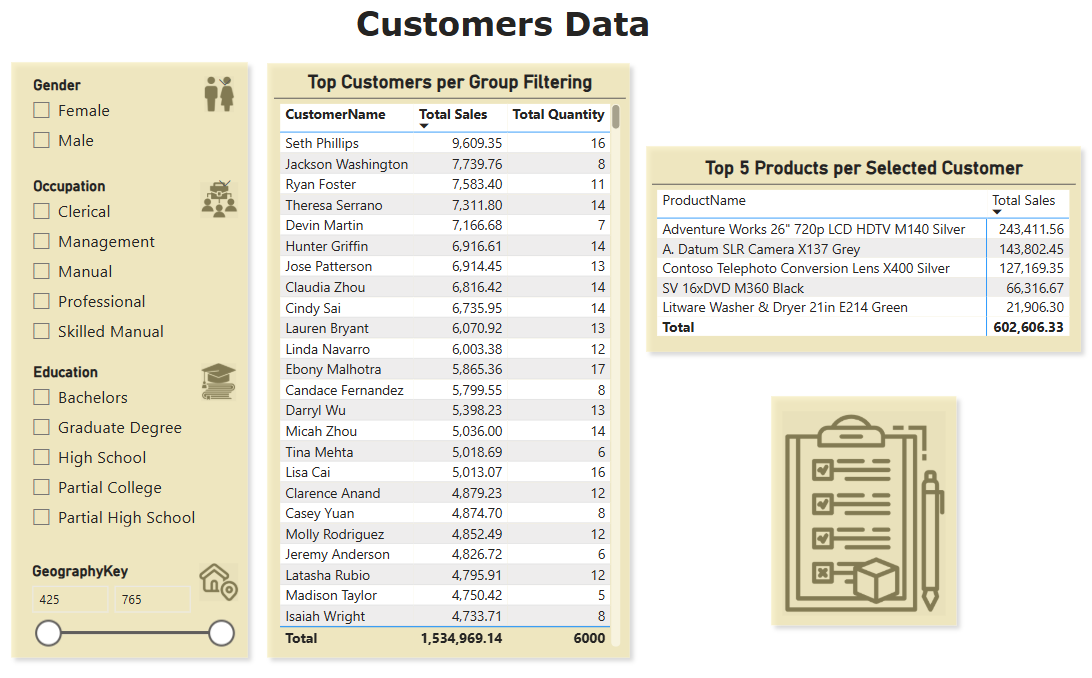

The dashboard page shown, as its layout file describes it:
{"tool":"powerbi","page":{"name":"Customers Data","canvas":[1280,720],"ordinal":2},"visuals":[{"type":"textbox","box":[0,18.5,1280,49.6],"z":0},{"type":"image","box":[339.7,562.9,48.7,46.8],"z":1000},{"type":"image","box":[339.7,369.1,48.7,46.8],"z":2000},{"type":"image","box":[339.7,89.5,48.7,44.8],"z":3000},{"type":"image","box":[339.7,192.7,48.7,44.8],"z":4000},{"type":"shape","box":[152.7,72,248,597.2],"z":5000},{"type":"slicer","fields":{"Values":["customers_table.Gender"]},"box":[170.2,89.5,218.2,86.7],"z":6000},{"type":"slicer","fields":{"Values":["customers_table.Education"]},"box":[170.2,369.1,218.2,185.1],"z":7000},{"type":"slicer","fields":{"Values":["customers_table.Occupation"]},"box":[170.2,187.9,218.2,172.4],"z":8000},{"type":"slicer","fields":{"Values":["customers_table.GeographyKey"]},"box":[169.3,562.2,217.9,150.8],"z":9000},{"type":"shape","box":[401.8,72.9,370.6,596.2],"z":10000},{"type":"tableEx","title":"Top Customers per Group Filtering","fields":{"Values":["customers_table.CustomerName","sales_table.Total Sales","sales_table.Total Quantity"]},"box":[417.3,89.5,342.4,564.1],"z":11000},{"type":"shape","box":[770.4,153.7,440.6,217.9],"z":12000},{"type":"pivotTable","title":"Top 5 Products per Selected Customer","fields":{"Rows":["products_table.ProductName"],"Values":["sales_table.Total Sales"]},"box":[785,173.1,412.4,179],"z":13000},{"type":"image","box":[903.6,415.3,174.1,209.1],"z":14000},{"type":"shape","box":[891.9,396.8,198.4,241.2],"z":15000}]}

Visuals, with their boxes on the page's 1280x720 design canvas (x1, y1, x2, y2). These are canvas units, not pixel positions in the 1092x678 screenshot, which may show the page scaled, cropped or inside an application window:
textbox: bbox(0, 18, 1280, 68)
image: bbox(340, 563, 388, 610)
image: bbox(340, 369, 388, 416)
image: bbox(340, 90, 388, 134)
image: bbox(340, 193, 388, 238)
shape: bbox(153, 72, 401, 669)
slicer - customers_table.Gender: bbox(170, 90, 388, 176)
slicer - customers_table.Education: bbox(170, 369, 388, 554)
slicer - customers_table.Occupation: bbox(170, 188, 388, 360)
slicer - customers_table.GeographyKey: bbox(169, 562, 387, 713)
shape: bbox(402, 73, 772, 669)
"Top Customers per Group Filtering" tableEx: bbox(417, 90, 760, 654)
shape: bbox(770, 154, 1211, 372)
"Top 5 Products per Selected Customer" pivotTable: bbox(785, 173, 1197, 352)
image: bbox(904, 415, 1078, 624)
shape: bbox(892, 397, 1090, 638)
